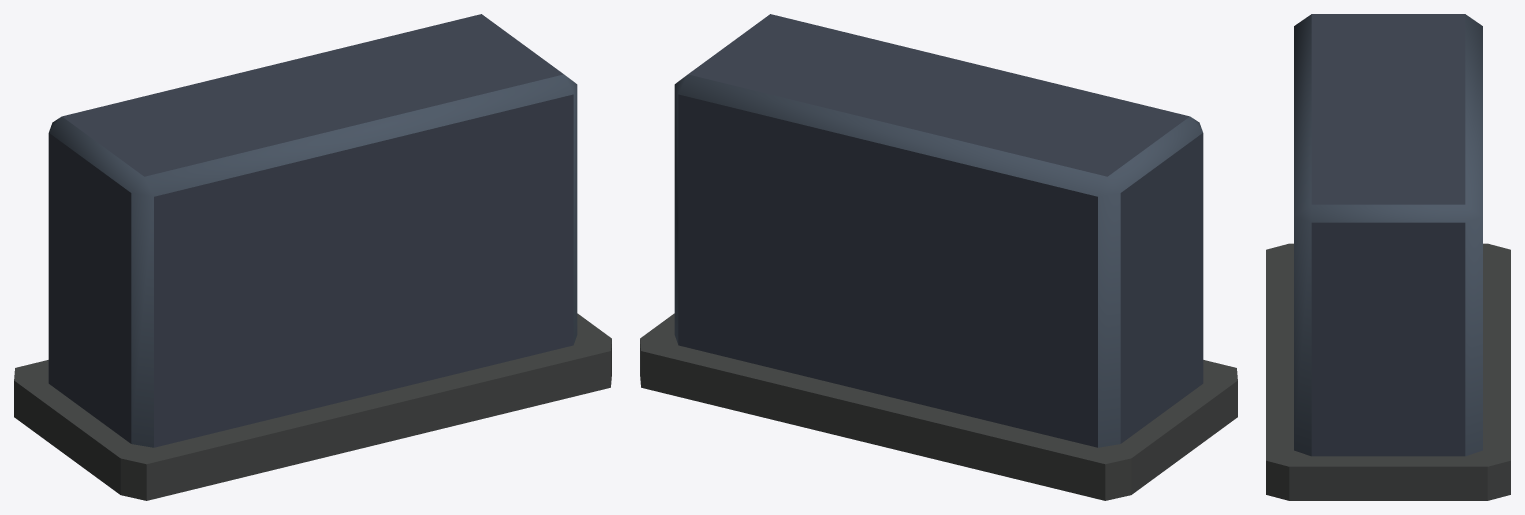
The model's file is ChimneyWall_1_C.fbx.
3 renders of one model, left to right at view 1: azimuth 30°, elevation 25°; view 2: azimuth 150°, elevation 25°; view 3: azimuth 270°, elevation 25°, orthographic. The views are drawn at different scales.
Parts seen in each view (by area): view 1: ChimneyWall_1_C; view 2: ChimneyWall_1_C; view 3: ChimneyWall_1_C.
Boxes of the visible parts, box(x1,y1,x2,y2) form: ChimneyWall_1_C: box(14, 14, 611, 500); ChimneyWall_1_C: box(640, 14, 1237, 500); ChimneyWall_1_C: box(1266, 14, 1510, 500).
Size of the model in its own units: 244 by 143 by 113.
